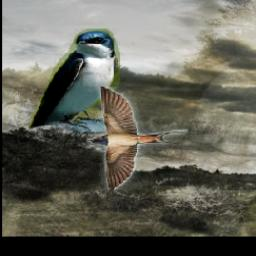Swallow: (87, 88, 190, 191), (29, 30, 121, 133)
